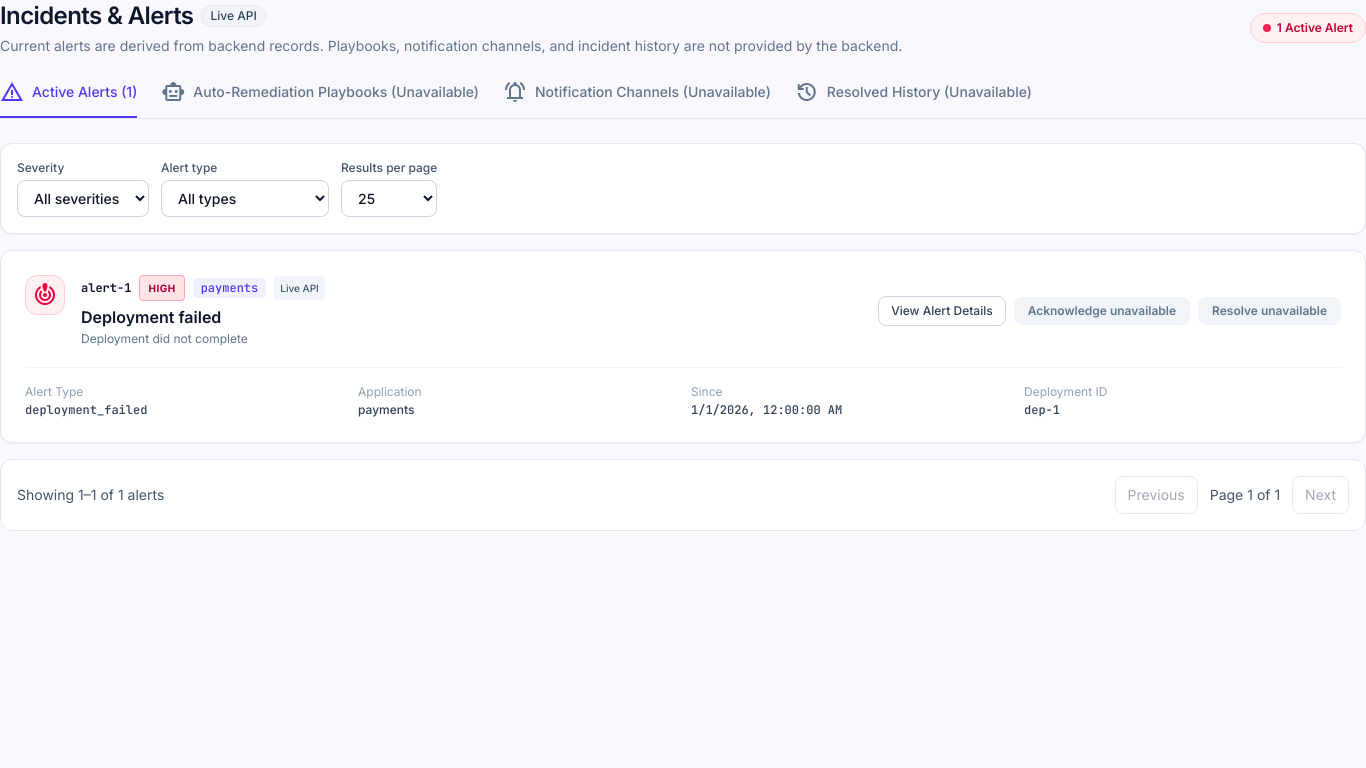
AlertsPage › renders live alert fields and disables unsupported operations
Check: the text "Deployment did not complete" is shown, box [81, 331, 248, 346]
Check: the text "payments" next to "high" is shown, box [201, 280, 258, 296]
Click the button "View Alert Details" at [942, 311], box [878, 296, 1006, 326]
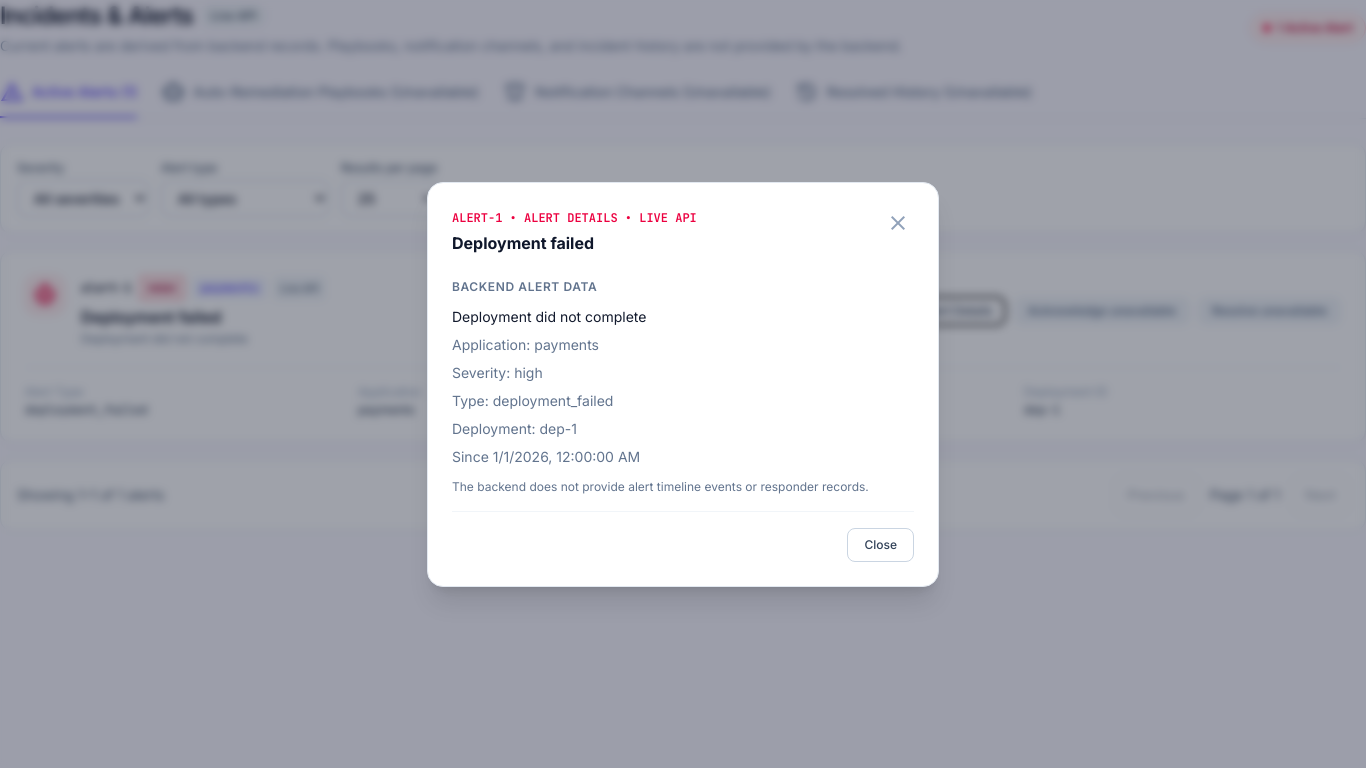
Check: the heading "Backend alert data" is shown, box [452, 278, 597, 294]
Check: the text "The backend does not provide alert timeline events or responder records." is shown, box [452, 478, 914, 494]
Check: the text "Deployment did not complete" is shown, box [452, 308, 646, 324]
